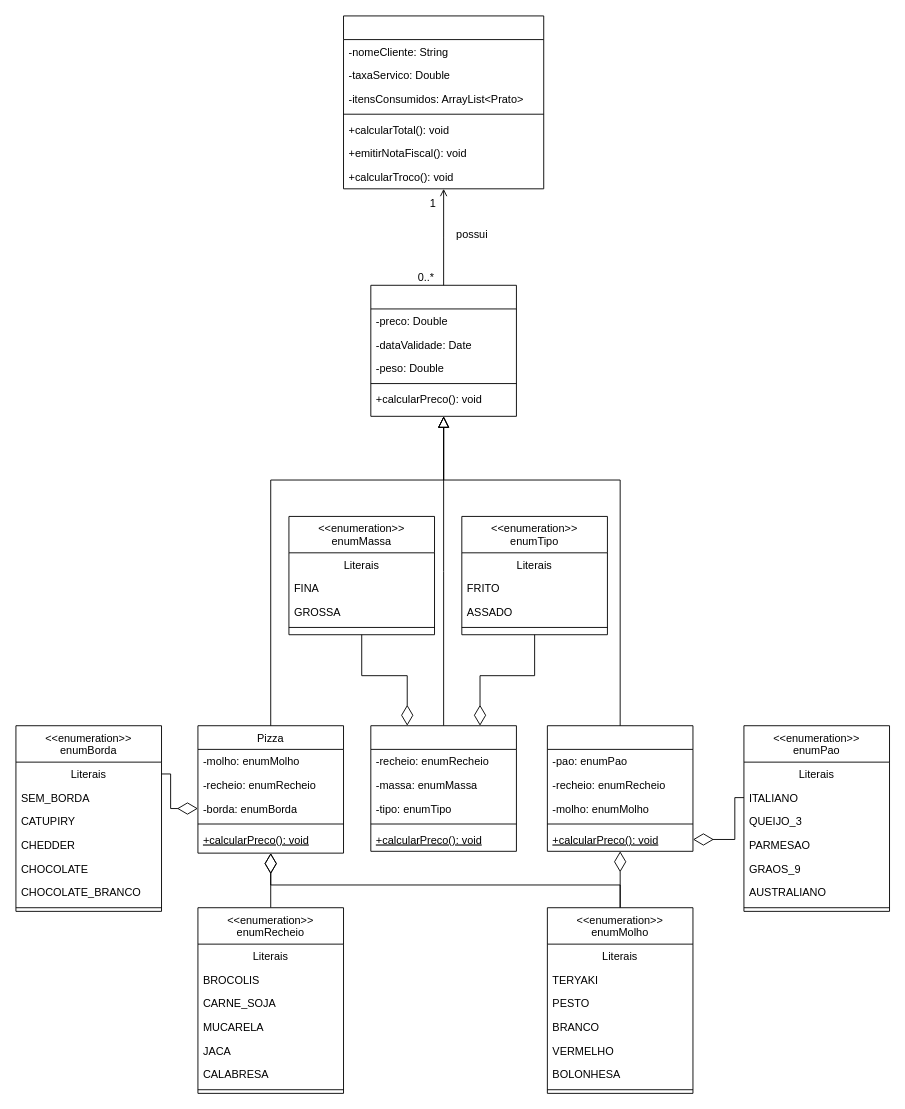
This 905x1109 diagram has some shape labels left out. Here are the shapes that lost their labels. From the top down, the box of each, then its label:
(343, 15, 544, 189): Pedido
(370, 284, 516, 416): Prato
(370, 725, 516, 851): Salgado
(546, 725, 693, 851): Lanche
